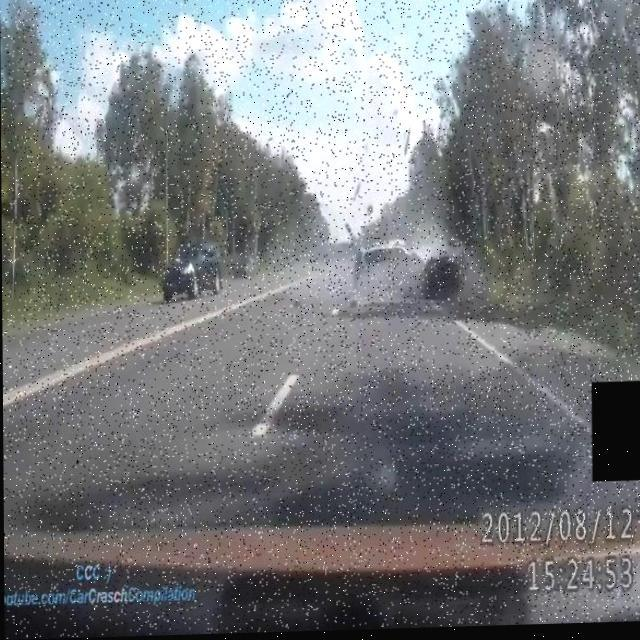normal: (152, 237, 221, 304)
single accident: (353, 215, 465, 308)
